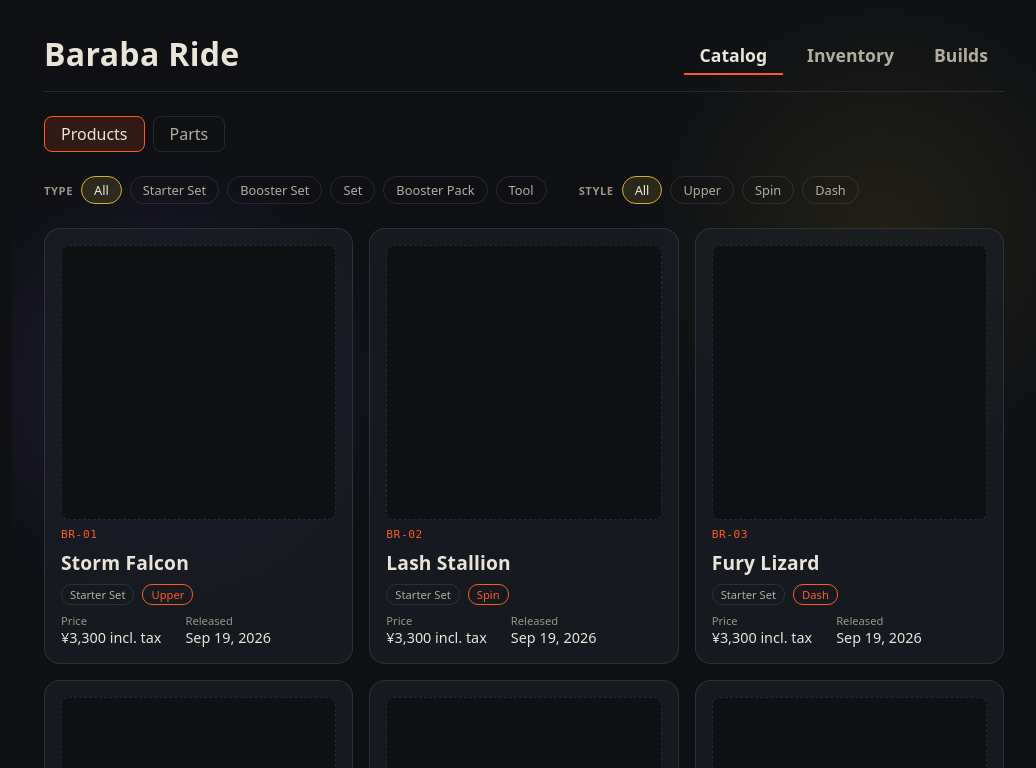
Test: BrPage › segments › switches segment from the navigation
Click the link "Builds" at x=961, y=55, box [934, 43, 988, 67]
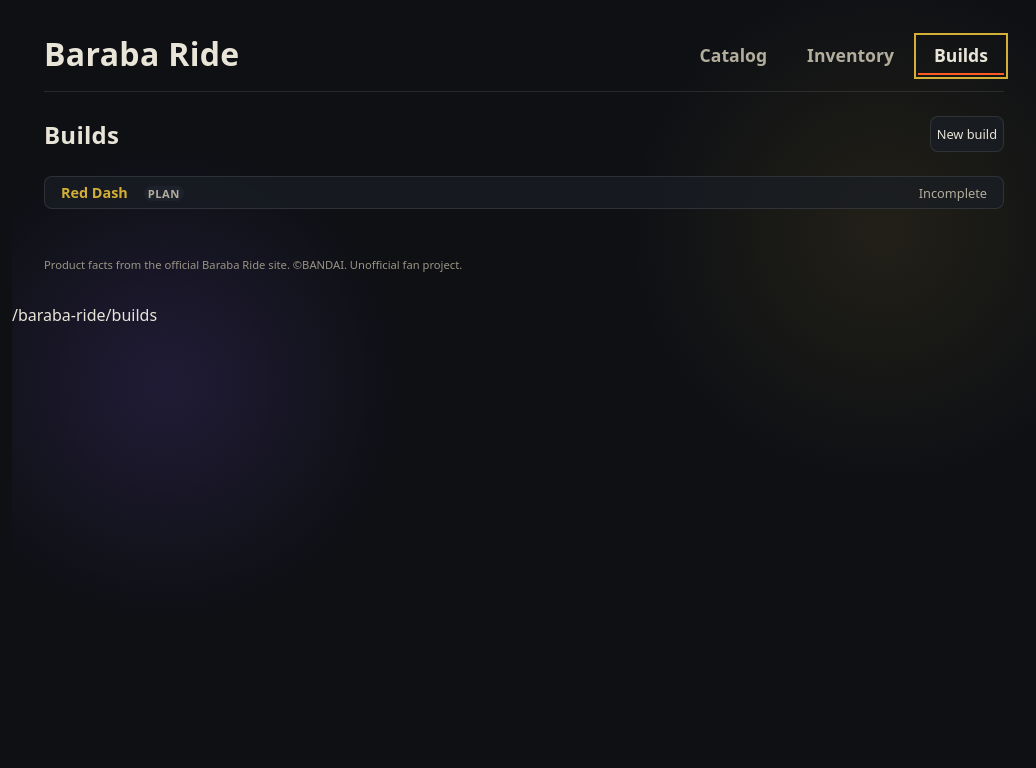
Result: the text with test id "location" reads "/baraba-ride/builds" at [12, 304, 157, 326]
Result: the heading "Builds" is shown at [44, 118, 119, 150]
